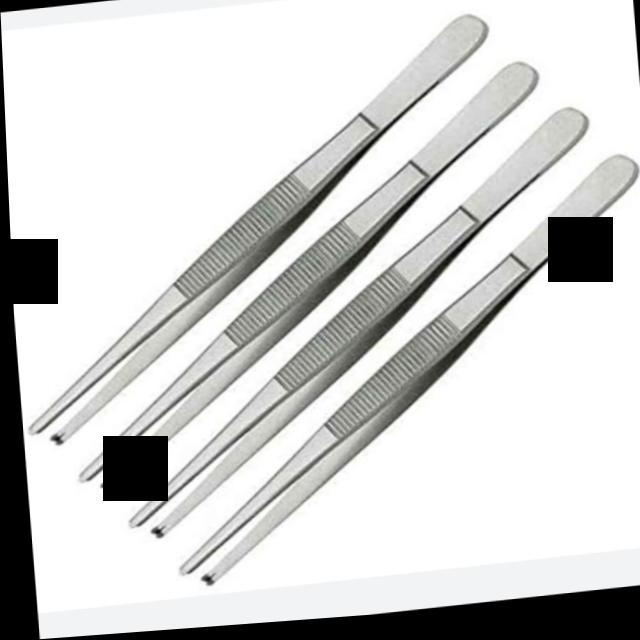Disscting Forceps -tooth-: (38, 64, 570, 505), (90, 113, 625, 548), (1, 17, 514, 451), (149, 160, 640, 596)
